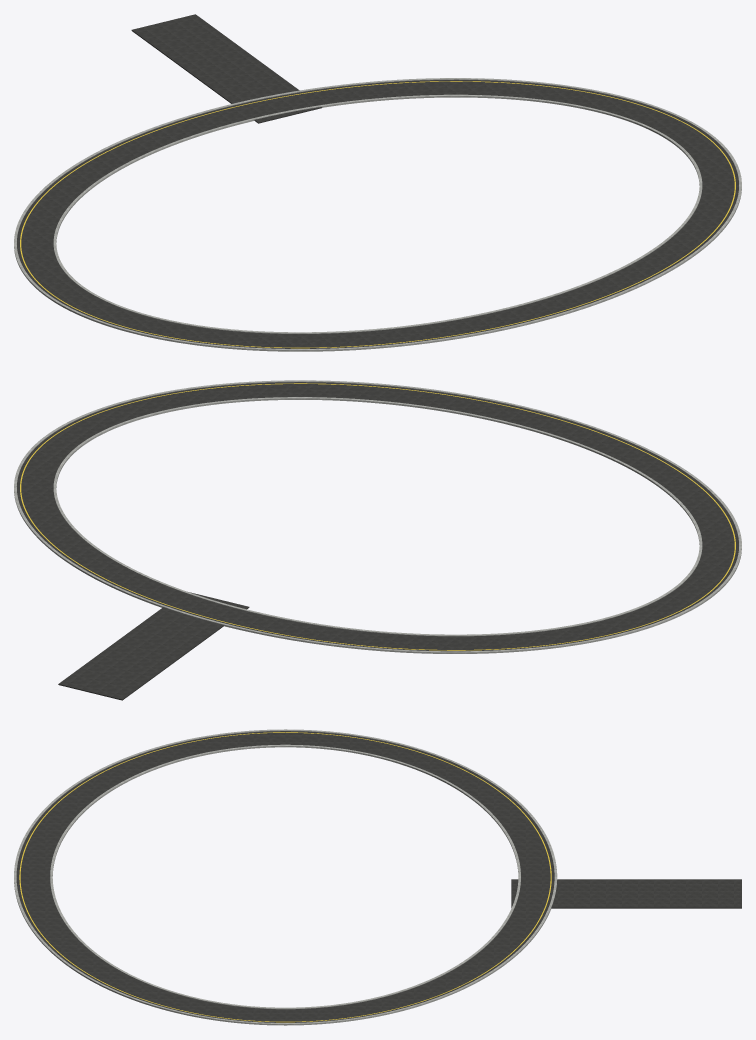
The model's file is asphalt_road.glb.
3 renders of one model, top to bottom at view 1: azimuth 30°, elevation 25°; view 2: azimuth 150°, elevation 25°; view 3: azimuth 270°, elevation 25°, orthographic. The views are drawn at different scales.
Parts seen in each view (by area): view 1: outer_asphalt_drive, elliptic_road_curbs, continuous_outer_yellow_edge_stripe; view 2: outer_asphalt_drive, elliptic_road_curbs, continuous_outer_yellow_edge_stripe; view 3: outer_asphalt_drive, elliptic_road_curbs, continuous_outer_yellow_edge_stripe.
Part boxes in pixels (left/top/right/bottom): outer_asphalt_drive: left=17, top=14, right=738, bottom=348; elliptic_road_curbs: left=14, top=78, right=741, bottom=351; continuous_outer_yellow_edge_stripe: left=20, top=81, right=735, bottom=348; outer_asphalt_drive: left=17, top=382, right=738, bottom=700; elliptic_road_curbs: left=14, top=380, right=741, bottom=653; continuous_outer_yellow_edge_stripe: left=20, top=383, right=735, bottom=650; outer_asphalt_drive: left=16, top=731, right=741, bottom=1022; elliptic_road_curbs: left=14, top=729, right=557, bottom=1025; continuous_outer_yellow_edge_stripe: left=19, top=732, right=551, bottom=1022.
Size of the model in its own units: 72.54 by 0.1683 by 75.77.
Materials: 3 (2 with a texture image).
